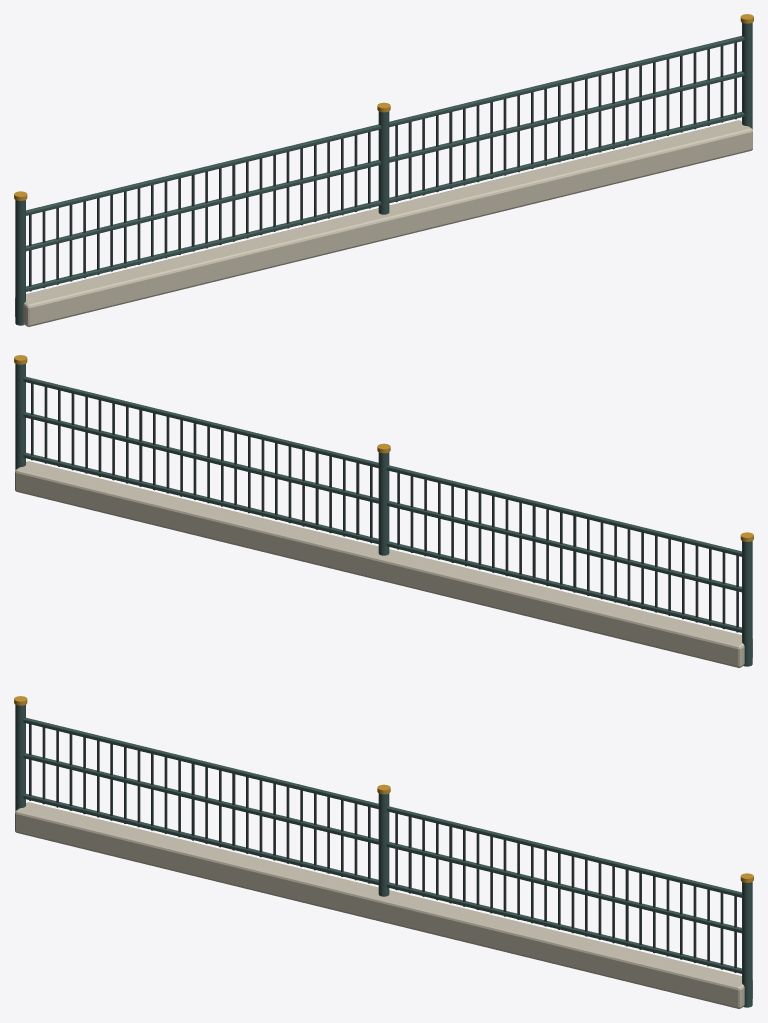
Rendered from boundary_railing.glb.
3 views of the same model, one above another, from view 1: azimuth 30°, elevation 25°; view 2: azimuth 150°, elevation 25°; view 3: azimuth 330°, elevation 25° (orthographic).
Parts seen in each view (by area): view 1: boundary_railing; view 2: boundary_railing; view 3: boundary_railing.
Boxes of the visible parts, bbox=[...] form: boundary_railing: bbox=[14, 14, 753, 326]; boundary_railing: bbox=[14, 355, 753, 667]; boundary_railing: bbox=[14, 696, 753, 1008].
Size of the model in its own units: 15.24 by 2.55 by 0.5.
